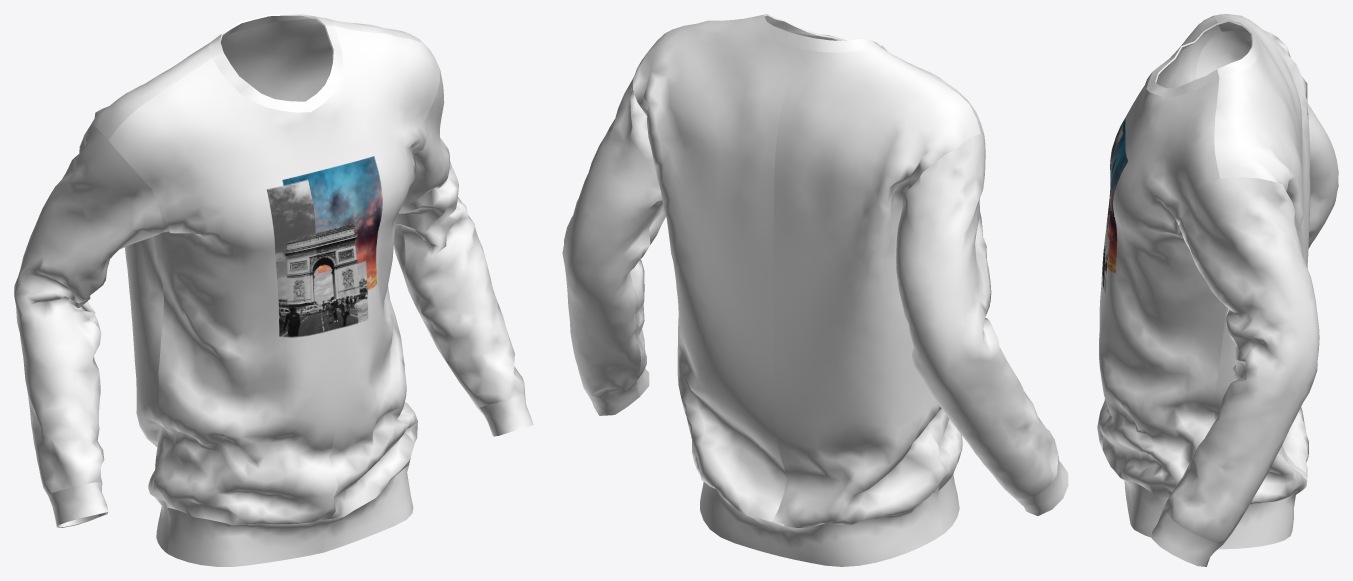
File: sweatshirt.gltf
3 views of the same model, side by side, from view 1: azimuth 30°, elevation 25°; view 2: azimuth 150°, elevation 25°; view 3: azimuth 270°, elevation 25° (orthographic). The views are drawn at different scales.
Visible parts, largest first — view 1: Pattern2D_41597.001, Pattern2D_768528.001; view 2: Pattern2D_41597.001, Pattern2D_768528.001; view 3: Pattern2D_41597.001, Pattern2D_768528.001.
Boxes of the visible parts, left/top/right/bottom form: Pattern2D_41597.001: left=14, top=18, right=524, bottom=524; Pattern2D_768528.001: left=48, top=14, right=533, bottom=566; Pattern2D_41597.001: left=562, top=16, right=1058, bottom=527; Pattern2D_768528.001: left=590, top=14, right=1068, bottom=566; Pattern2D_41597.001: left=1097, top=14, right=1338, bottom=544; Pattern2D_768528.001: left=1121, top=19, right=1307, bottom=566.
Bounding box in the file's own units: 67.35 × 68.89 × 31.94.
Materials: 2 (1 with a texture image).
